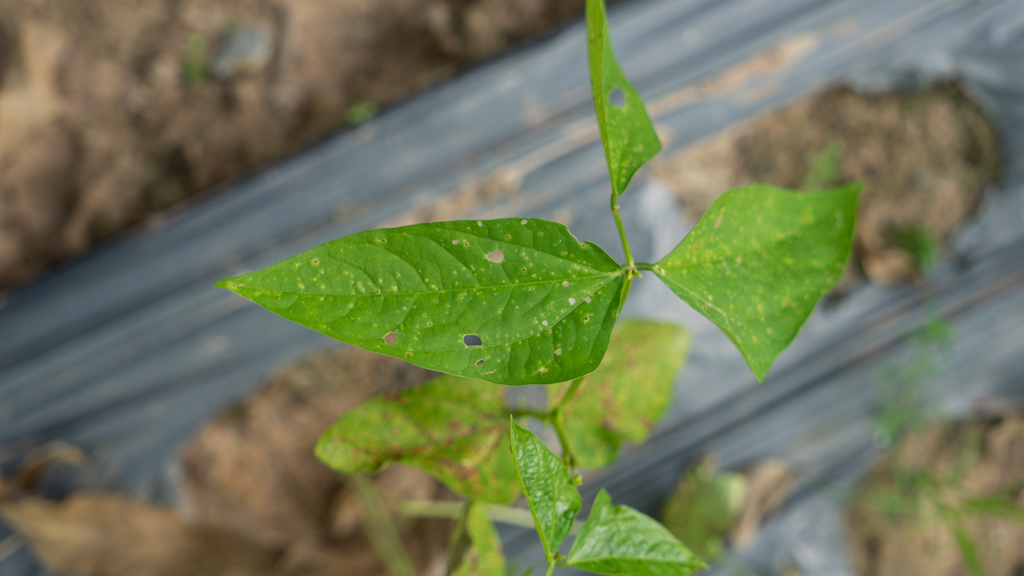Rust: (245, 219, 621, 377), (661, 177, 868, 382)
